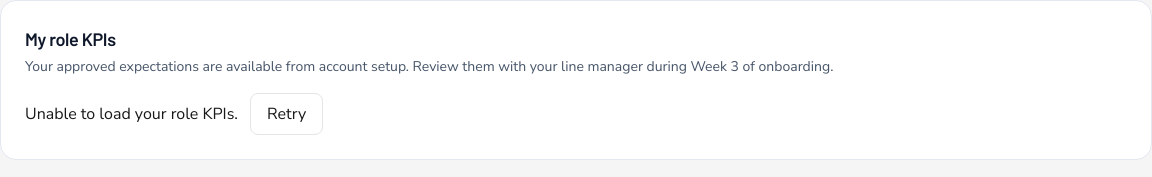
Test: failed loading can retry without leaving stale data
Expected: the message "Unable to load your role KPIs. Retry" is shown, [25,93,323,135]
Click the button "Retry".
click(287, 114)  # box [250,93,323,135]
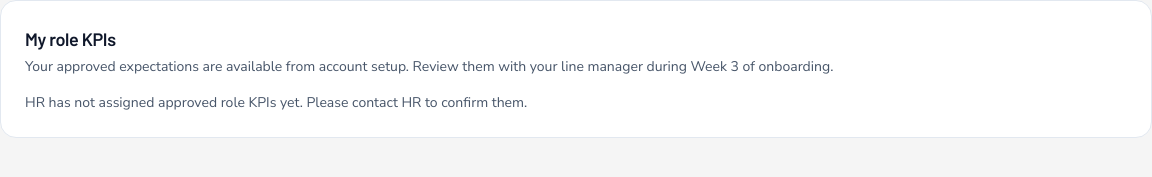
Now the message "Unable to load your role KPIs. Retry" is gone
